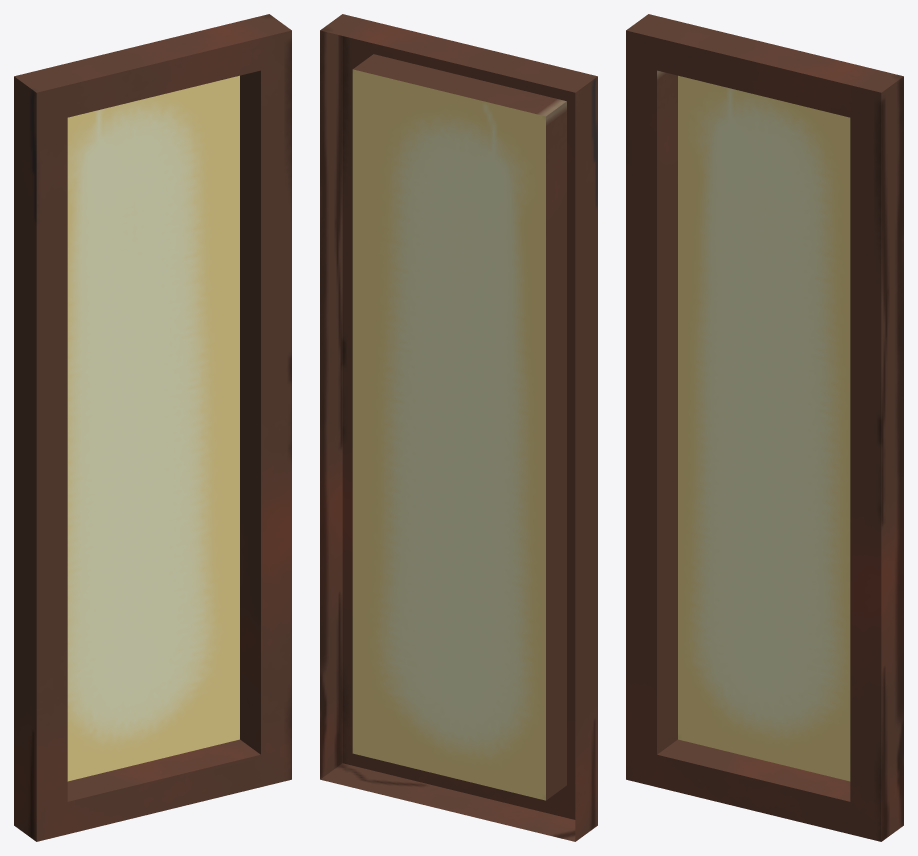
File: Deco_light02.fbx
The picture shows the model from 3 angles, left to right: view 1: azimuth 30°, elevation 25°; view 2: azimuth 150°, elevation 25°; view 3: azimuth 330°, elevation 25°; orthographic projection.
Parts seen in each view (by area): view 1: light002; view 2: light002; view 3: light002.
Boxes of the visible parts, left/top/right/bottom form: light002: left=14, top=14, right=291, bottom=841; light002: left=320, top=14, right=597, bottom=841; light002: left=626, top=14, right=903, bottom=841.
Size of the model in its own units: 2 by 5.61 by 0.3049.
